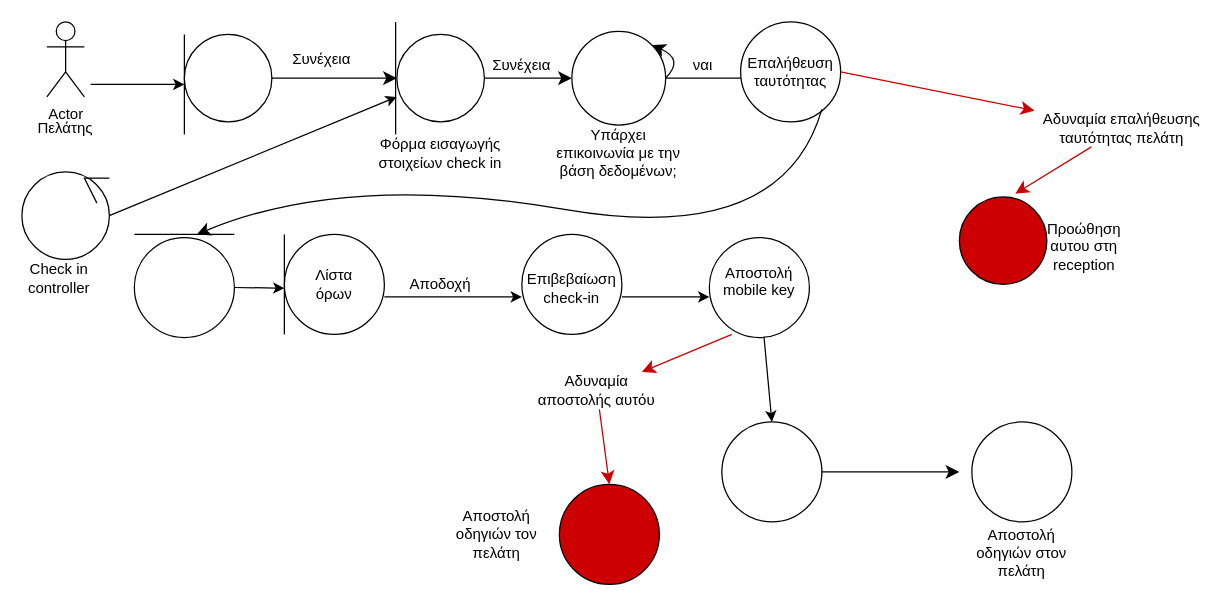
This 1231x606 diagram has some shape labels left out. The centre of each missing label's shape, as x and y in pixels:
Εμφάνιση λεπτομερειών κράτησης: [183,287]
Εφαρμογή check-in: [227,77]
Ολοκληρωση διαδικασίας: [771,471]
